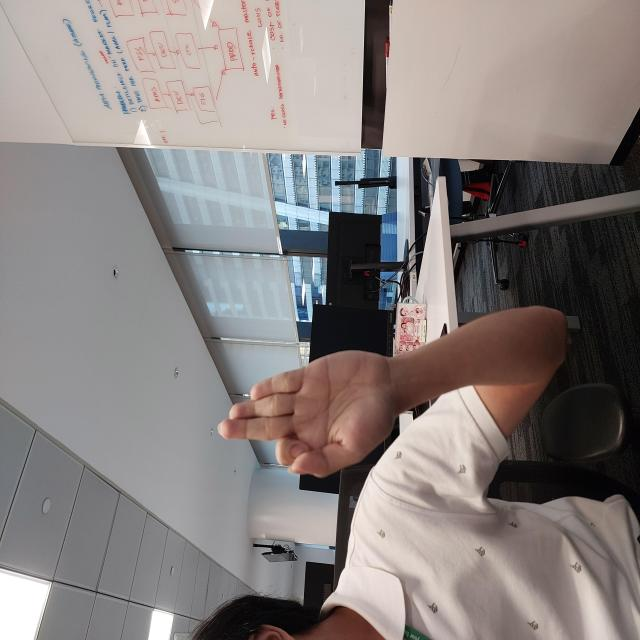F: (162, 214, 290, 400)
